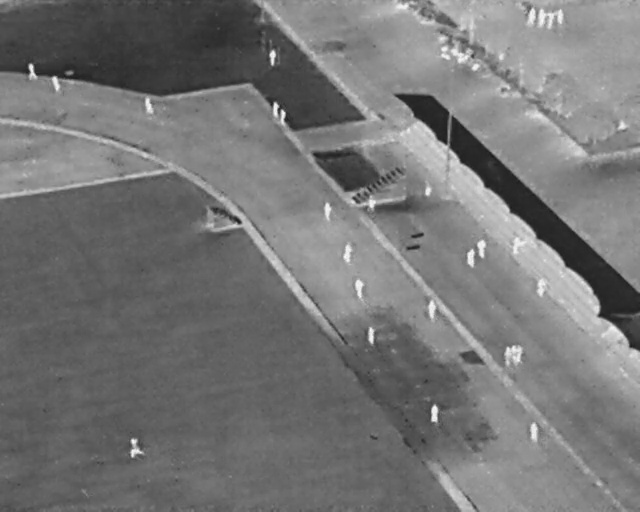DontCare: (435, 30, 487, 73)
Person: (130, 437, 146, 459), (343, 241, 353, 264), (536, 276, 546, 297), (477, 239, 487, 259), (28, 63, 39, 81), (530, 421, 539, 443), (355, 278, 364, 299), (527, 6, 536, 26), (430, 404, 439, 423), (428, 300, 436, 320), (467, 248, 475, 268), (324, 202, 332, 221), (368, 194, 376, 213), (538, 9, 546, 28), (547, 11, 555, 30), (52, 76, 61, 92), (556, 9, 565, 25), (511, 345, 518, 365), (504, 346, 511, 366), (368, 326, 375, 345), (424, 181, 432, 197), (517, 344, 523, 364), (269, 49, 276, 66), (273, 101, 280, 118), (280, 109, 286, 126), (145, 95, 150, 110)
